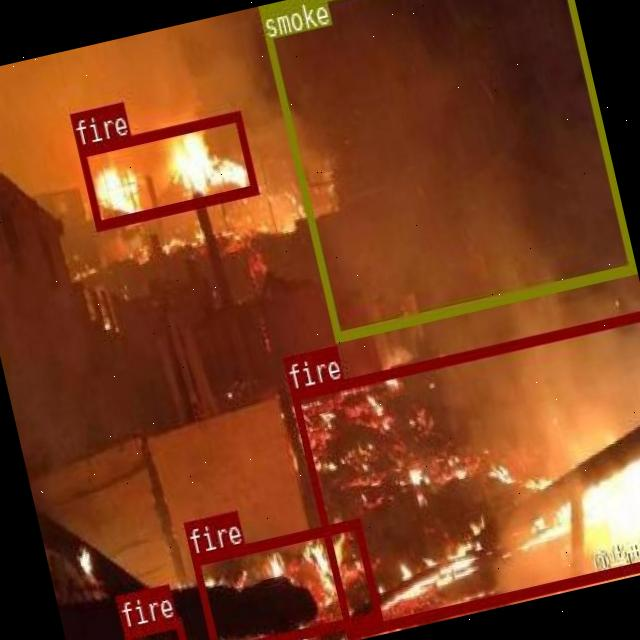fire: (289, 308, 640, 635), (190, 515, 380, 640), (76, 109, 258, 229), (121, 615, 191, 640)
smoke: (258, 0, 634, 339)
